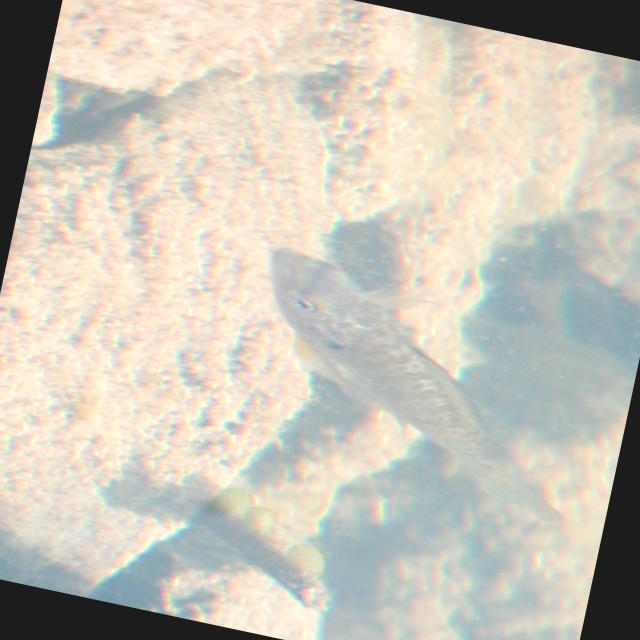Gunes Levregi: (225, 240, 610, 530)
